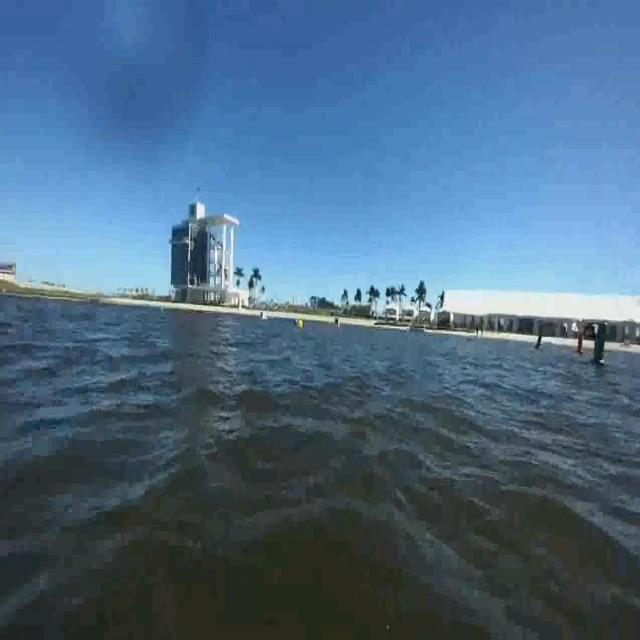green-column-buoy: (590, 323, 610, 368)
red-column-buoy: (575, 329, 586, 358)
yellow-buoy: (297, 318, 303, 330)
